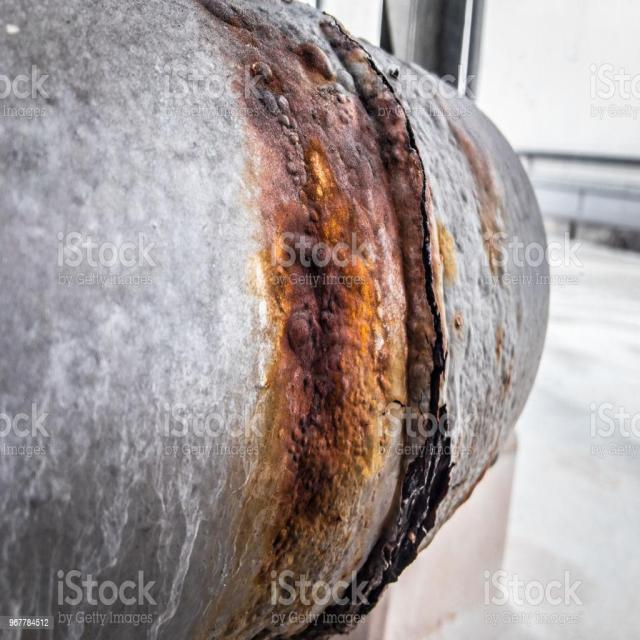corrosion: (200, 0, 520, 640)
